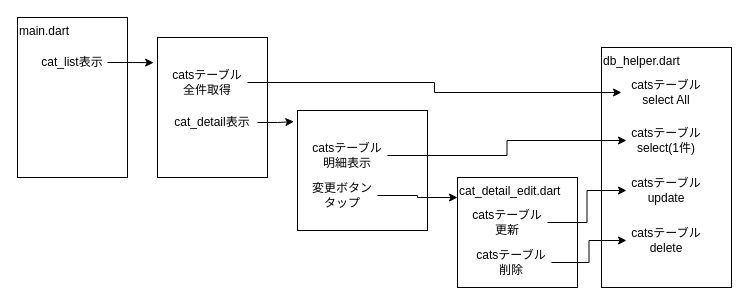
This 749x305 diagram has some shape labels left out. The box of each missing label's shape, as (x1, y1, x2, y2) in pixels:
cat_detail.dart: (296, 110, 428, 230)
cat_list.dart: (156, 36, 268, 178)
